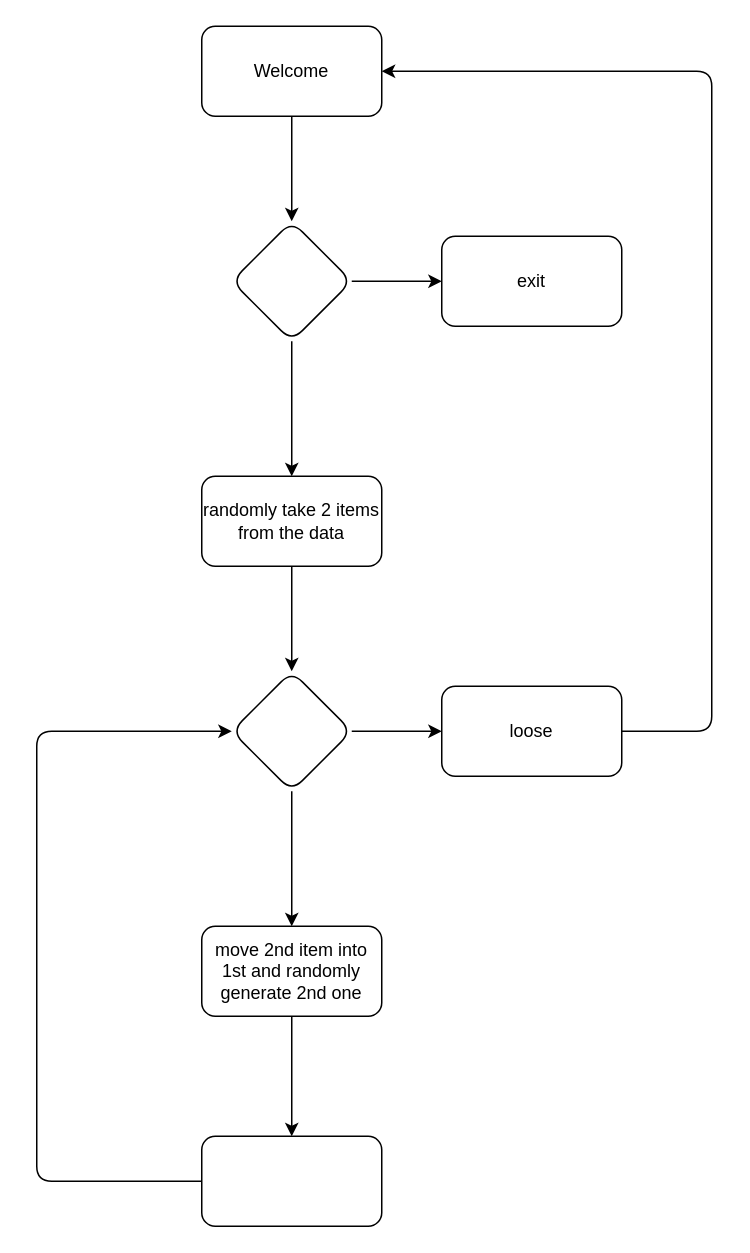
The diagram is 750 pixels wide and 1253 high, and some of its shapes have lost their labels. Each missing label, with the centre of its shape:
"ask which one is more popular" belongs at (291,730).
"increase score" belongs at (291,1180).
"Wanna play" belongs at (291,280).
